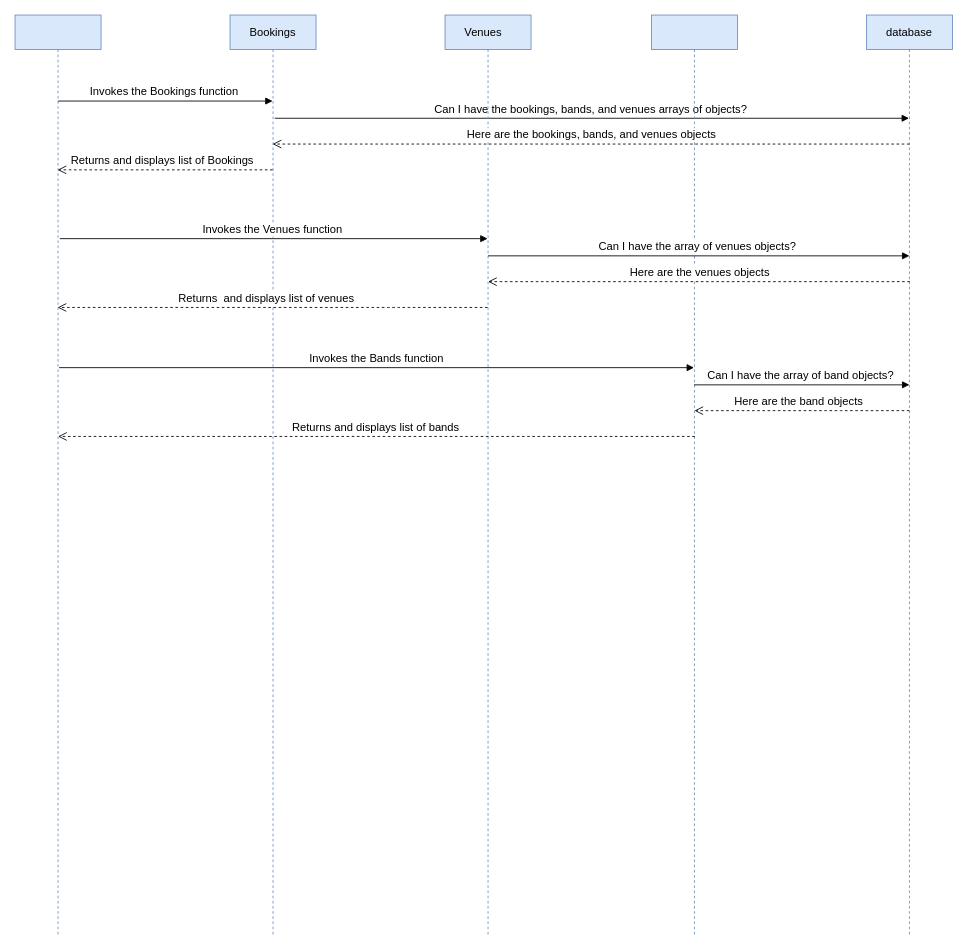
Image size: 968x950. Some labels were removed from this diagram. Each missing label, with the box of its shape:
Bands: (651, 14, 737, 935)
main: (14, 14, 101, 935)
